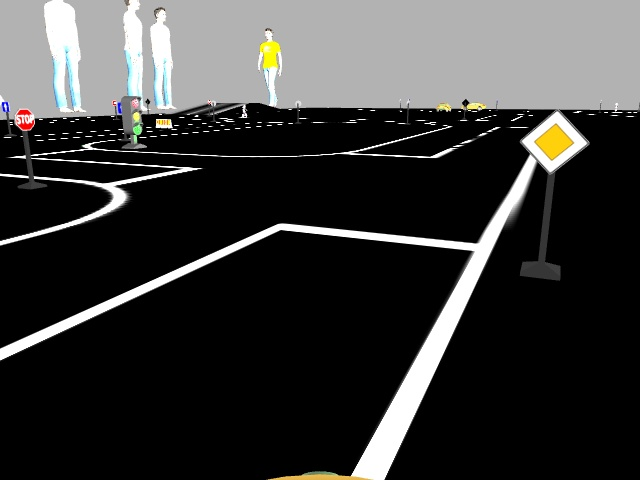ClosedRoadStand: (154, 116, 172, 127)
Priority: (527, 110, 583, 173)
Stop: (14, 109, 34, 129)
TrafficLight: (121, 96, 141, 137)
